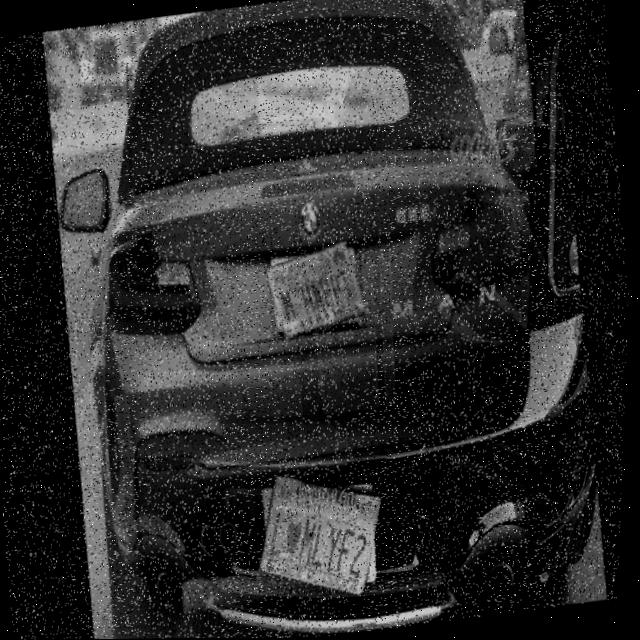LicensePlate: (253, 469, 393, 604), (266, 242, 372, 340)
